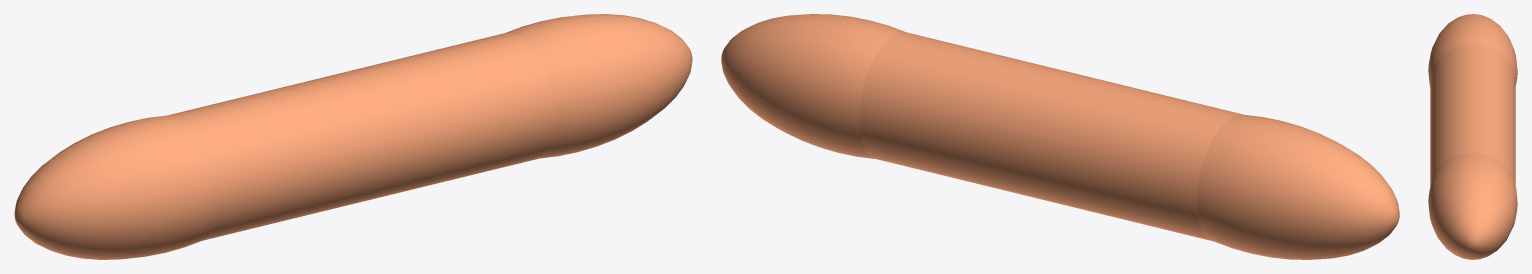
The model's file is salchicha-sola.glb.
3 renders of one model, left to right at view 1: azimuth 30°, elevation 25°; view 2: azimuth 150°, elevation 25°; view 3: azimuth 270°, elevation 25°, orthographic. The views are drawn at different scales.
Parts seen in each view (by area): view 1: Root Node; view 2: Root Node; view 3: Root Node.
Part boxes in pixels (<box>): Root Node: <box>14,14,692,259</box>; Root Node: <box>721,14,1399,259</box>; Root Node: <box>1428,14,1517,259</box>.
Size of the model in its own units: 0.1524 by 0.0266 by 0.0266.
